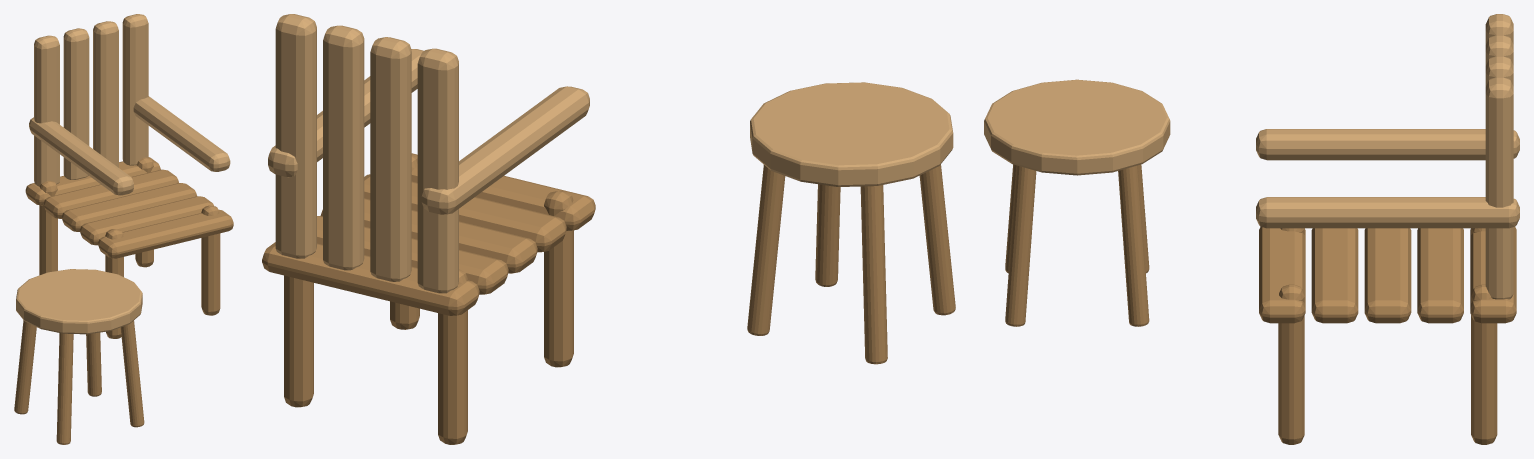
File: SM_RelaxedNeighborHouse_MusicFurniture.fbx
3 renders of one model, left to right at view 1: azimuth 30°, elevation 25°; view 2: azimuth 150°, elevation 25°; view 3: azimuth 270°, elevation 25°, orthographic. The views are drawn at different scales.
Parts seen in each view (by area): view 1: SM_RelaxedNeighborHouse_MusicFurniture; view 2: SM_RelaxedNeighborHouse_MusicFurniture; view 3: SM_RelaxedNeighborHouse_MusicFurniture.
Boxes of the visible parts, <box> form: SM_RelaxedNeighborHouse_MusicFurniture: <box>14,14,233,444</box>; SM_RelaxedNeighborHouse_MusicFurniture: <box>262,14,955,444</box>; SM_RelaxedNeighborHouse_MusicFurniture: <box>984,14,1519,444</box>.
Size of what is drawn, in the model's own units: 149 by 173 by 128.
